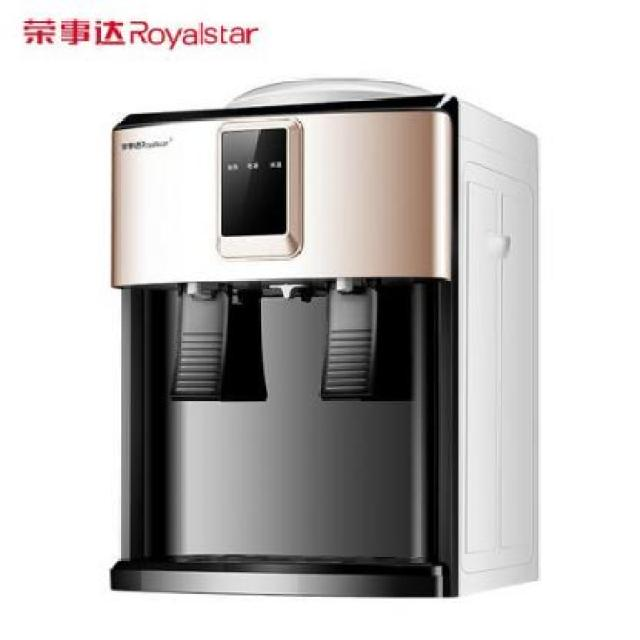cooler: (107, 74, 546, 601)
